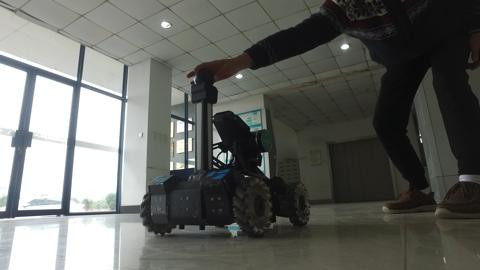chariot: (125, 65, 328, 247)
